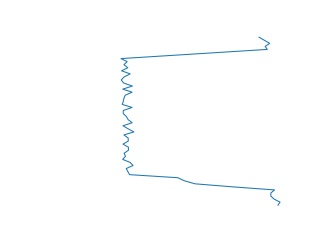distributaryChannelFill: (116, 39, 286, 205)
